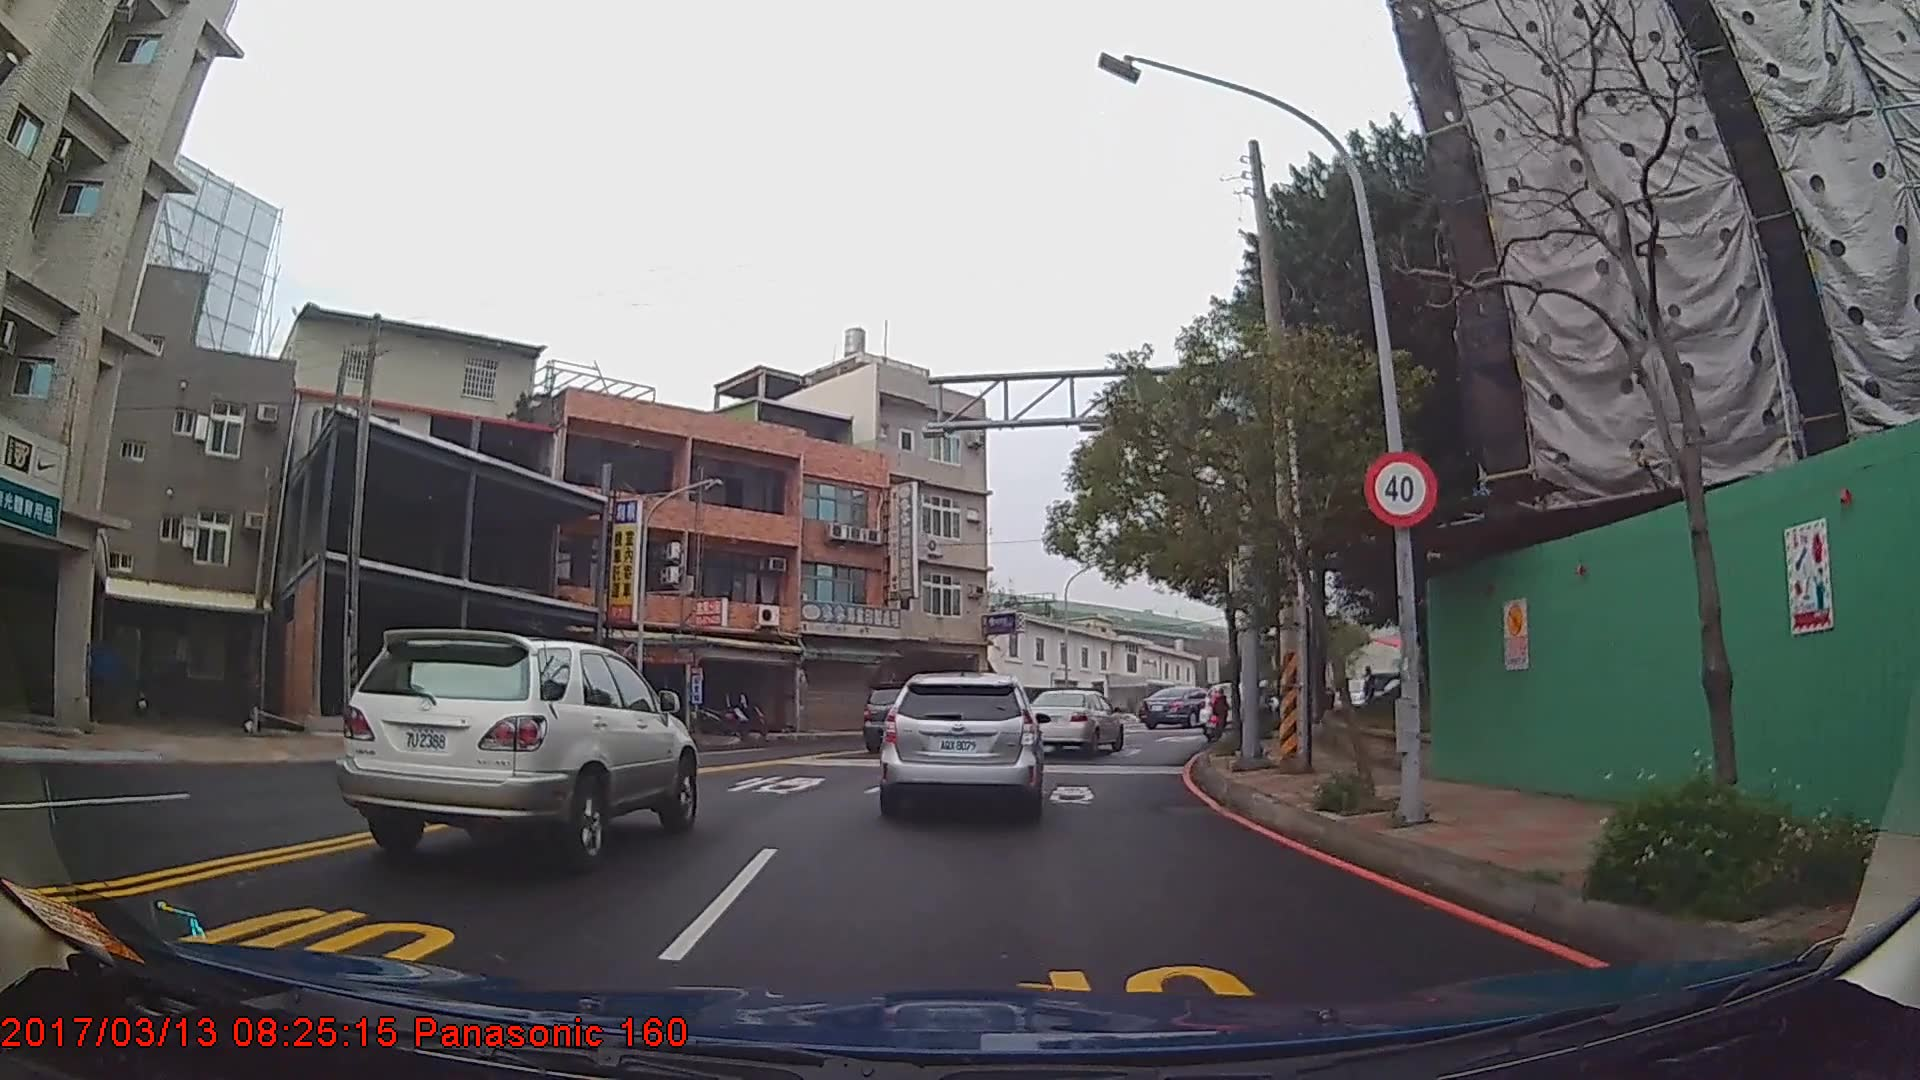rider: (1205, 687, 1231, 744)
vehicle: (337, 621, 698, 867), (881, 671, 1044, 821), (1024, 686, 1125, 758), (1139, 680, 1220, 727)
